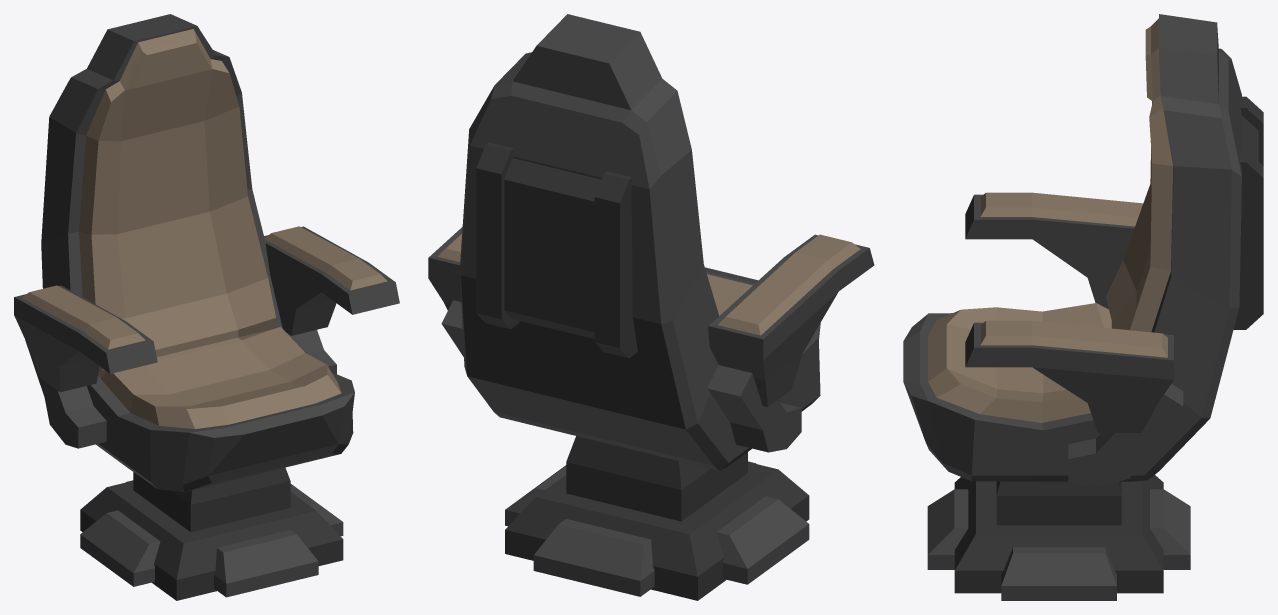
Rendered from SM_Bld_Bridge_Chair_01.glb.
3 views of the same model, side by side, from view 1: azimuth 30°, elevation 25°; view 2: azimuth 150°, elevation 25°; view 3: azimuth 270°, elevation 25° (orthographic). The views are drawn at different scales.
Parts seen in each view (by area): view 1: SM_Bld_Bridge_Chair_01; view 2: SM_Bld_Bridge_Chair_01; view 3: SM_Bld_Bridge_Chair_01.
Boxes of the visible parts, bbox=[...] form: SM_Bld_Bridge_Chair_01: bbox=[14, 14, 399, 600]; SM_Bld_Bridge_Chair_01: bbox=[428, 14, 874, 600]; SM_Bld_Bridge_Chair_01: bbox=[903, 14, 1263, 600].
Size of the model in its own units: 0.901 by 1.42 by 0.8951.
1 material, 1 textured.
